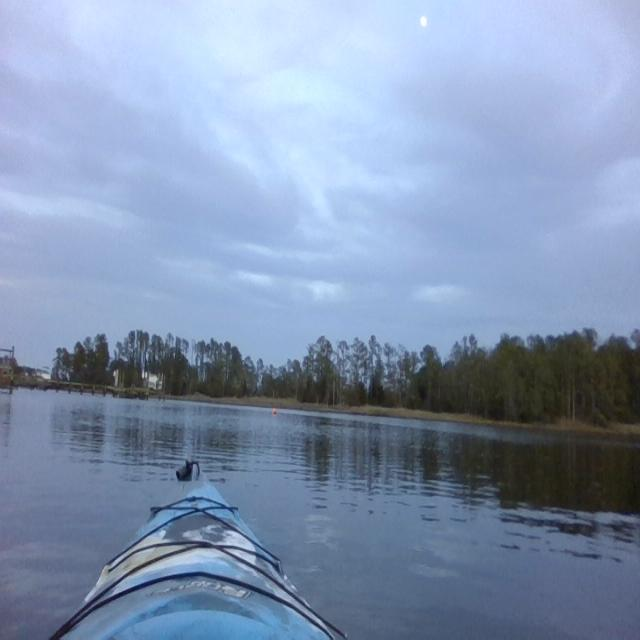Buoy: (271, 405, 279, 417)
